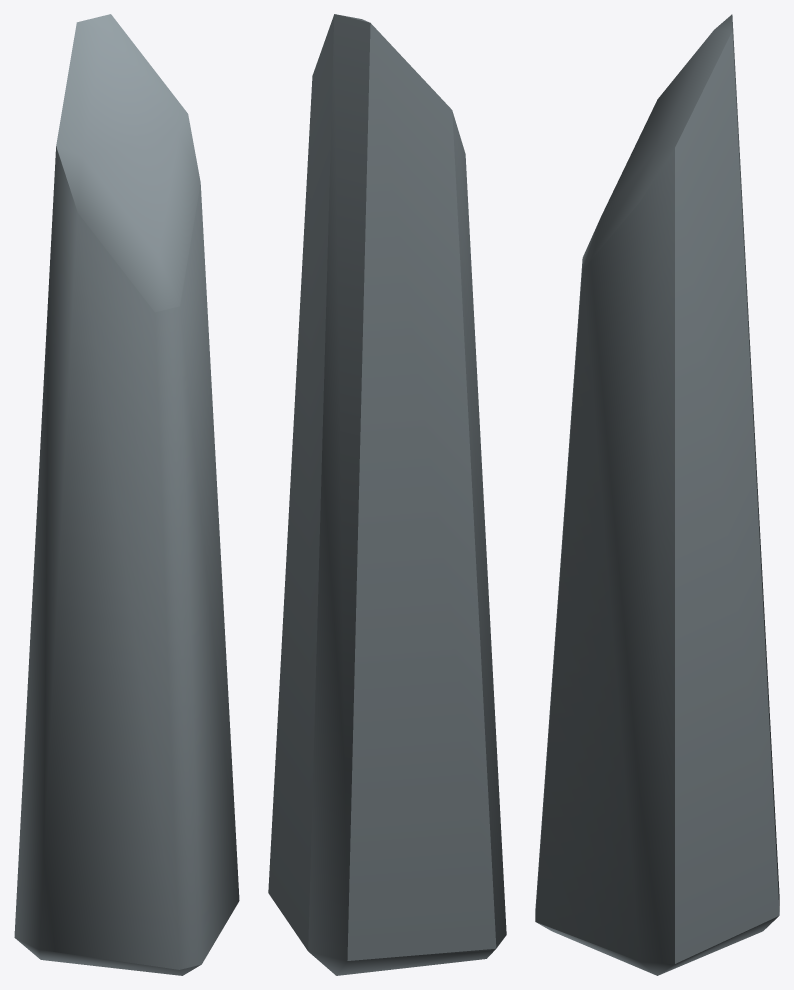
The model's file is Rock_4_B_Color1.gltf.
The picture shows the model from 3 angles, left to right: view 1: azimuth 30°, elevation 25°; view 2: azimuth 150°, elevation 25°; view 3: azimuth 270°, elevation 25°; orthographic projection. The views are drawn at different scales.
Parts seen in each view (by area): view 1: Rock_4_B_Color1; view 2: Rock_4_B_Color1; view 3: Rock_4_B_Color1.
Boxes of the visible parts, box(x1,y1,x2,y2) form: Rock_4_B_Color1: box(14, 14, 239, 975); Rock_4_B_Color1: box(268, 14, 506, 975); Rock_4_B_Color1: box(535, 14, 779, 975).
Bounding box in the file's own units: 0.4931 × 1.95 × 0.4761.
Materials: 1 (1 with a texture image).
